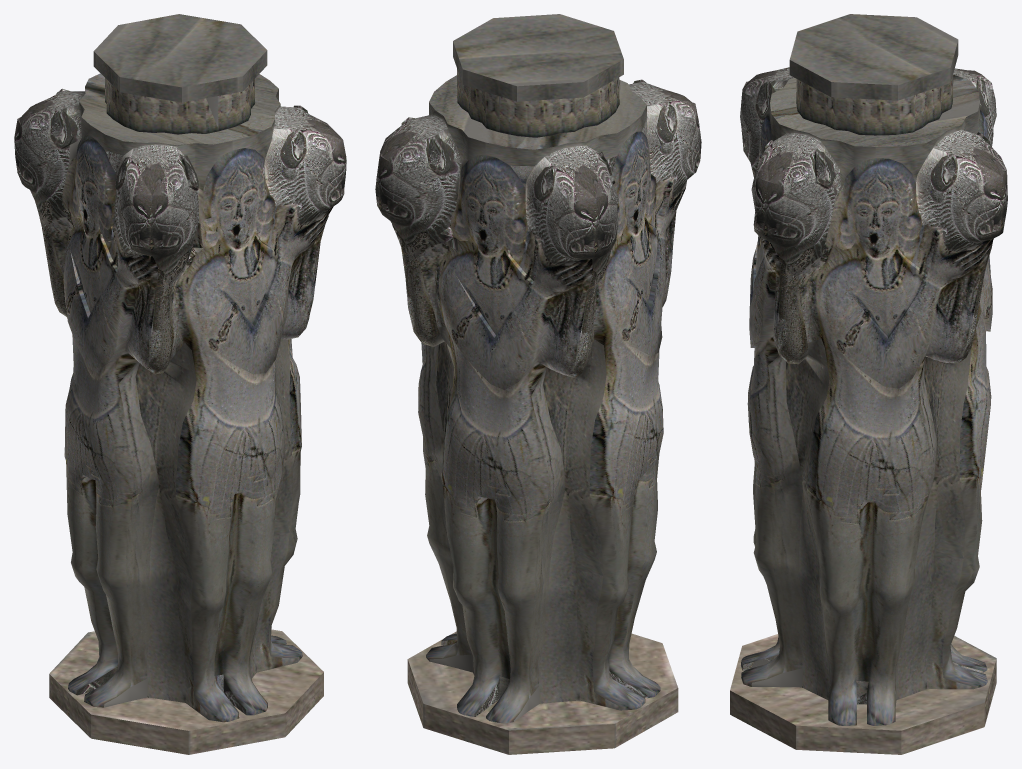
File: Mojasame.FBX
The picture shows the model from 3 angles, left to right: view 1: azimuth 30°, elevation 25°; view 2: azimuth 150°, elevation 25°; view 3: azimuth 270°, elevation 25°; orthographic projection.
Parts seen in each view (by area): view 1: Mojasame2; view 2: Mojasame2; view 3: Mojasame2.
Part boxes in pixels (x1=…): Mojasame2: x1=14, y1=14, x2=346, y2=754; Mojasame2: x1=375, y1=14, x2=701, y2=754; Mojasame2: x1=730, y1=14, x2=1007, y2=754.
Size of the model in its own units: 1.54 by 4.1 by 1.59.
